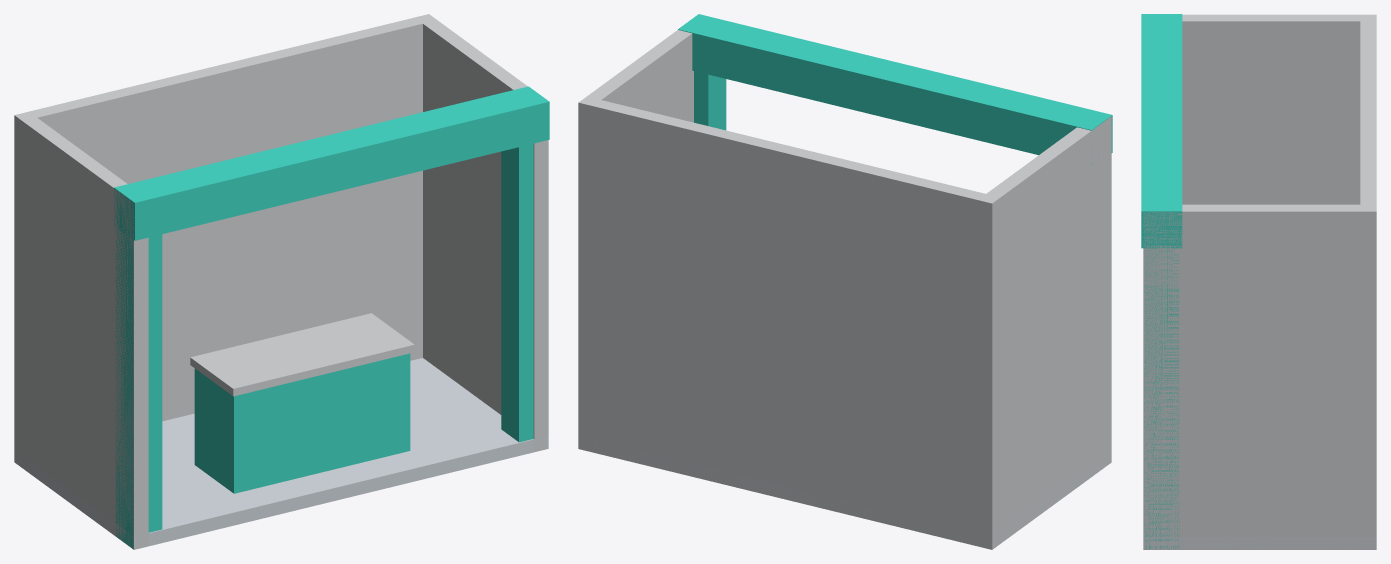
The picture shows the model from 3 angles, left to right: view 1: azimuth 30°, elevation 25°; view 2: azimuth 150°, elevation 25°; view 3: azimuth 270°, elevation 25°; orthographic projection. The views are drawn at different scales.
Visible parts, largest first — view 1: Exhibition Booth Concept; view 2: Exhibition Booth Concept; view 3: Exhibition Booth Concept.
Boxes of the visible parts, x1,y1,x2,y2 form: Exhibition Booth Concept: [14, 14, 549, 549]; Exhibition Booth Concept: [578, 14, 1112, 549]; Exhibition Booth Concept: [1141, 14, 1376, 549].
Bounding box in the file's own units: 4 × 3.2 × 2.01.
